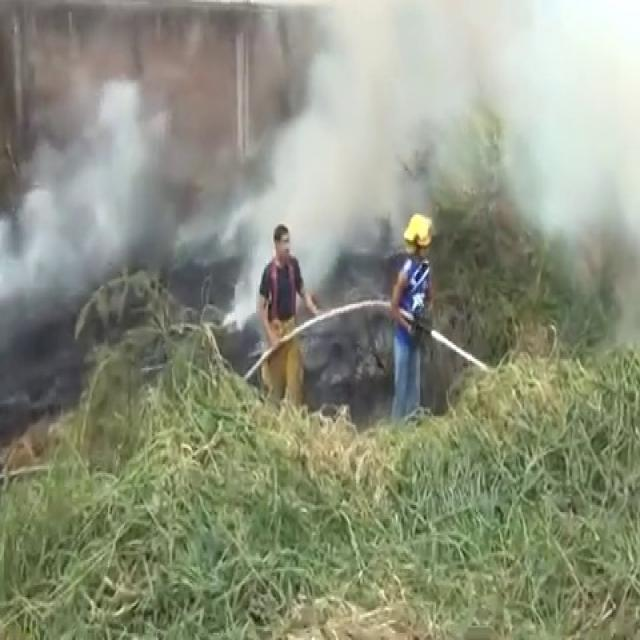Smoke: (243, 0, 640, 279), (0, 61, 189, 329)
